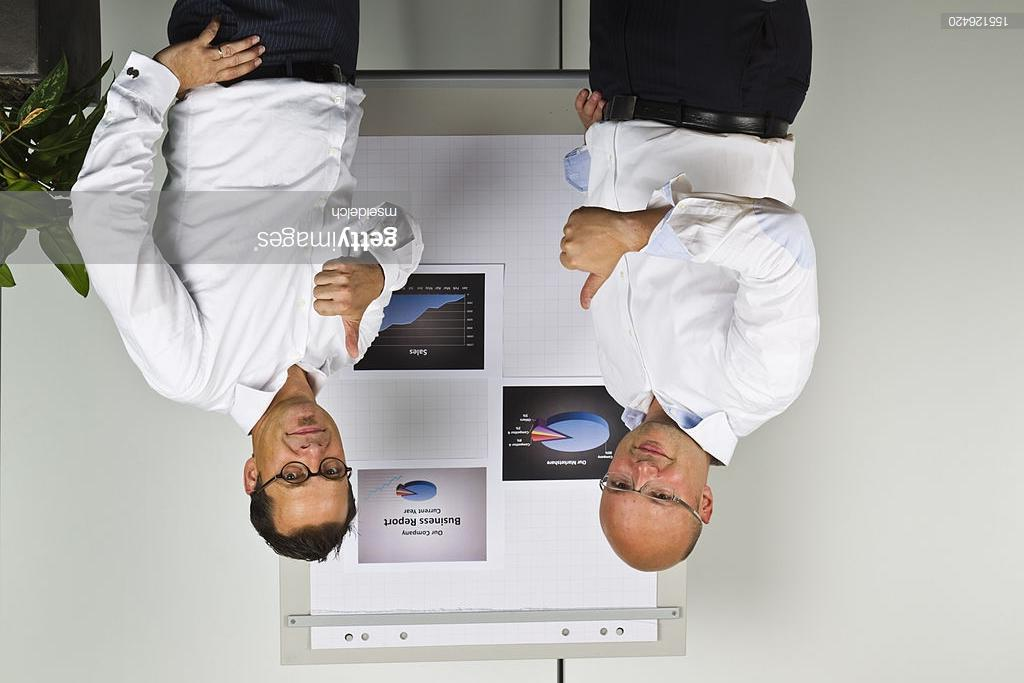thumbsdown: (559, 206, 612, 310), (312, 256, 362, 359)
